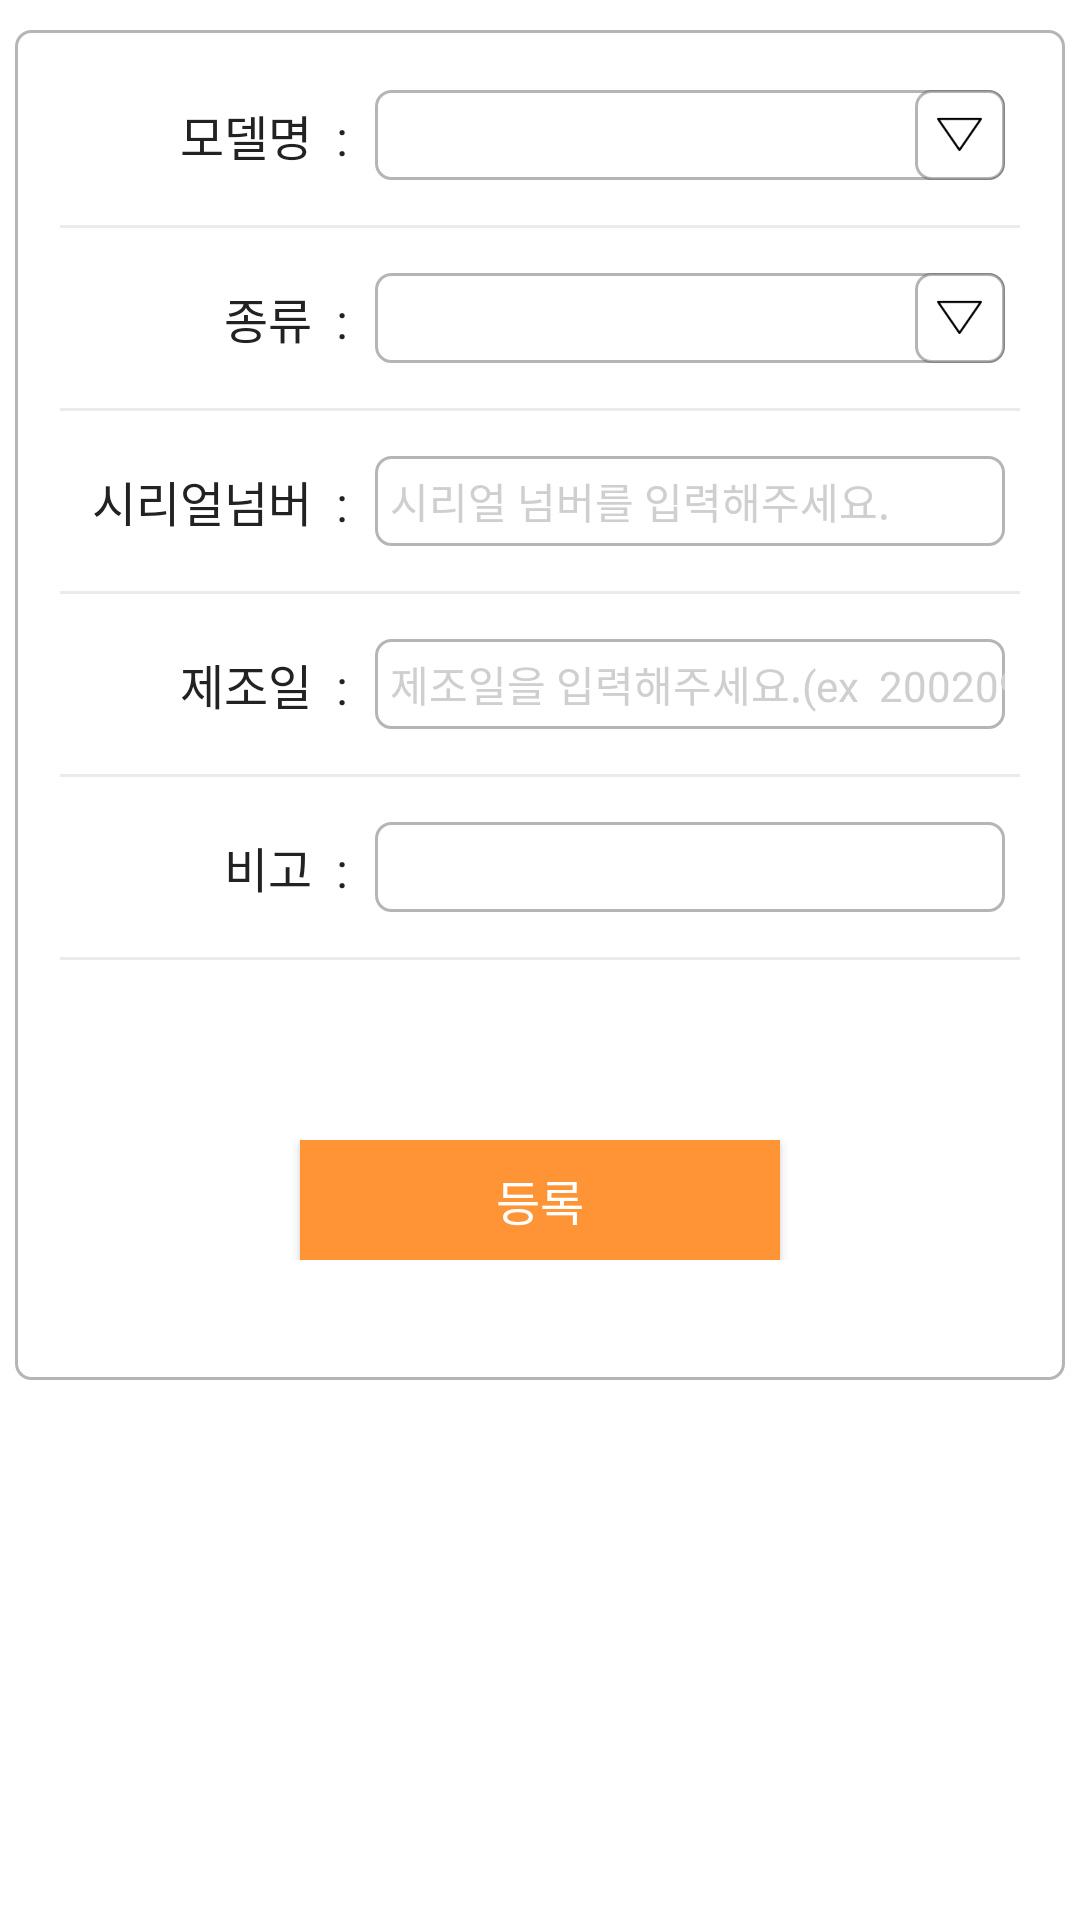

Screen size 1080px x 1920px. Icon name, then its center in pixels as (x,y):
down arow: (959,134), (959,317)
